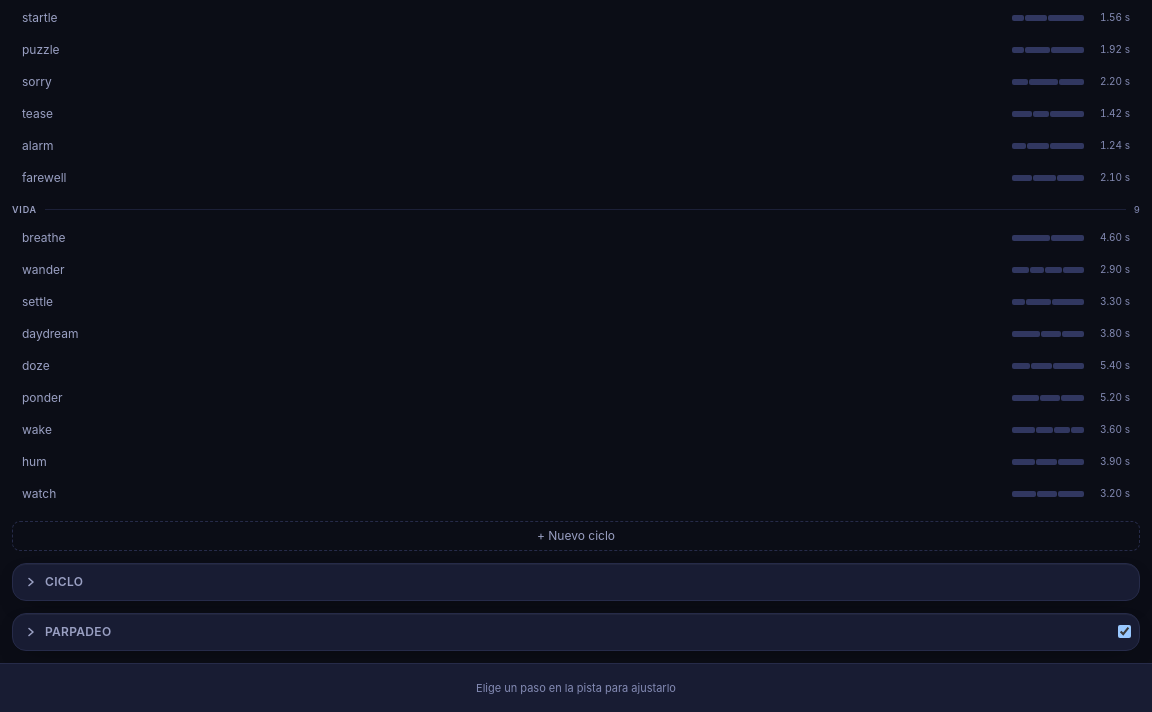
grouped loop list (docs/05 §2) › keeps a group the starter catalogue never names selectable
The width and height of the screenshot is (1152, 712).
(page scrolled)
What coordinates should you click on to do the following:
click the button "Ciclo"
I would click on:
 (64, 581)
Its box is [13,564,1139,600].
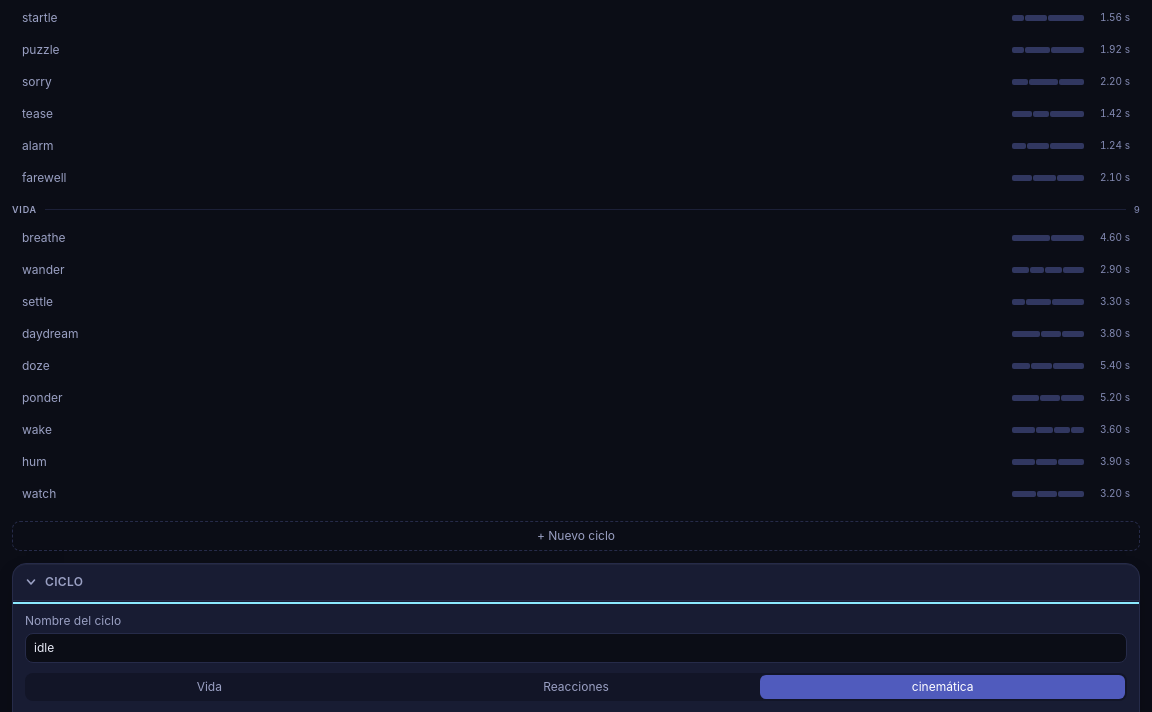
Check: the radio button labelled "cinemática" is shown, box [760,675,1125,699]
